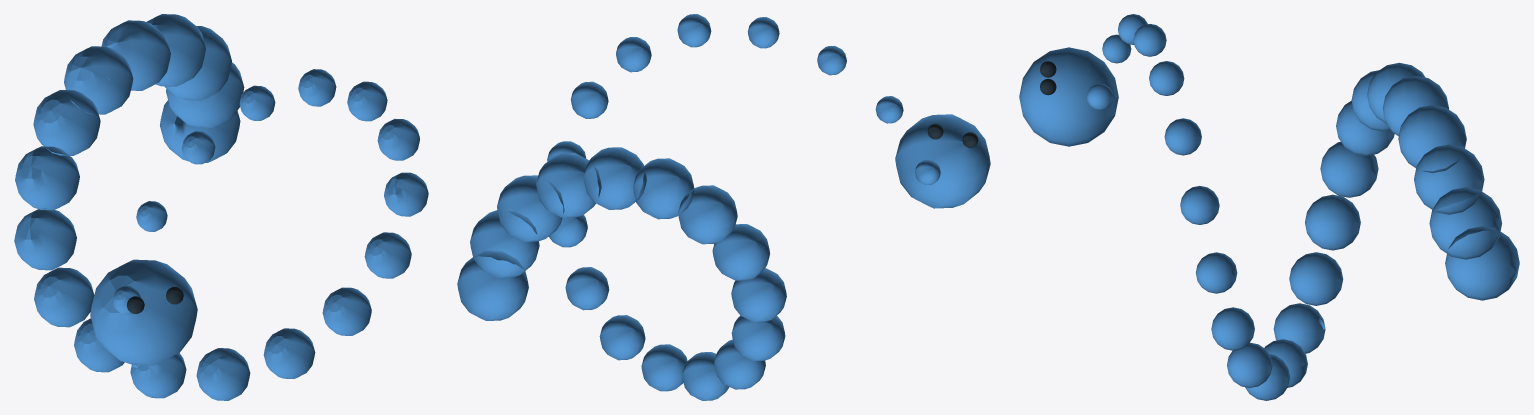
3 renders of one model, left to right at view 1: azimuth 30°, elevation 25°; view 2: azimuth 150°, elevation 25°; view 3: azimuth 270°, elevation 25°, orthographic. The views are drawn at different scales.
Visible parts, largest first — view 1: FallbackMesh; view 2: FallbackMesh; view 3: FallbackMesh.
Part boxes in pixels (x1,y1,x2,y2): FallbackMesh: (14,14,428,400); FallbackMesh: (457,14,990,400); FallbackMesh: (1019,14,1519,400).
Bounding box in the file's own units: 2.09 × 1.83 × 2.41.
